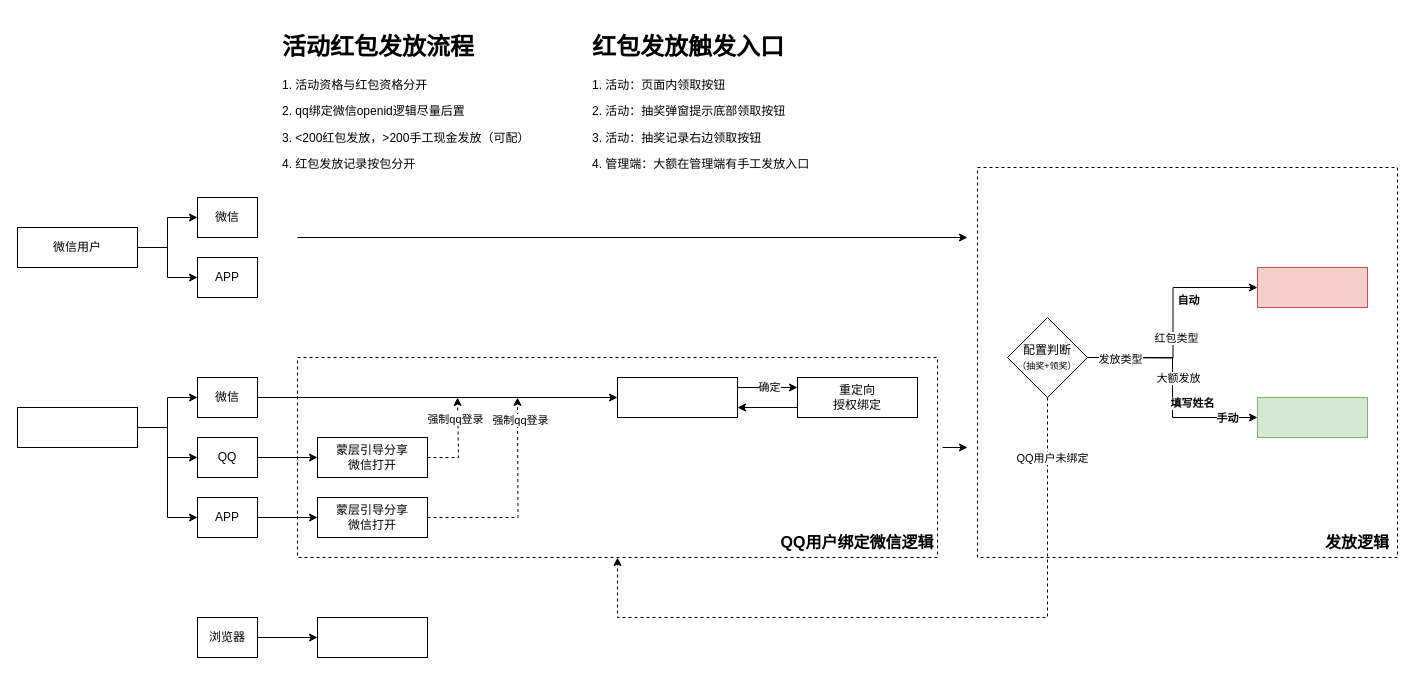
The diagram is 1415 pixels wide and 675 high, and some of its shapes have lost their labels. The shapes that lost their labels are listed below. From the top down, each one's centre as x and y in pixels, then its label:
At pixel 1312 287: "公众号红包发放".
At pixel 677 397: "弹窗 引导QQ用户绑定授权".
At pixel 1312 417: "现金发放".
At pixel 77 427: "QQ用户".
At pixel 372 637: "弹窗二维码 引导微信打开".
